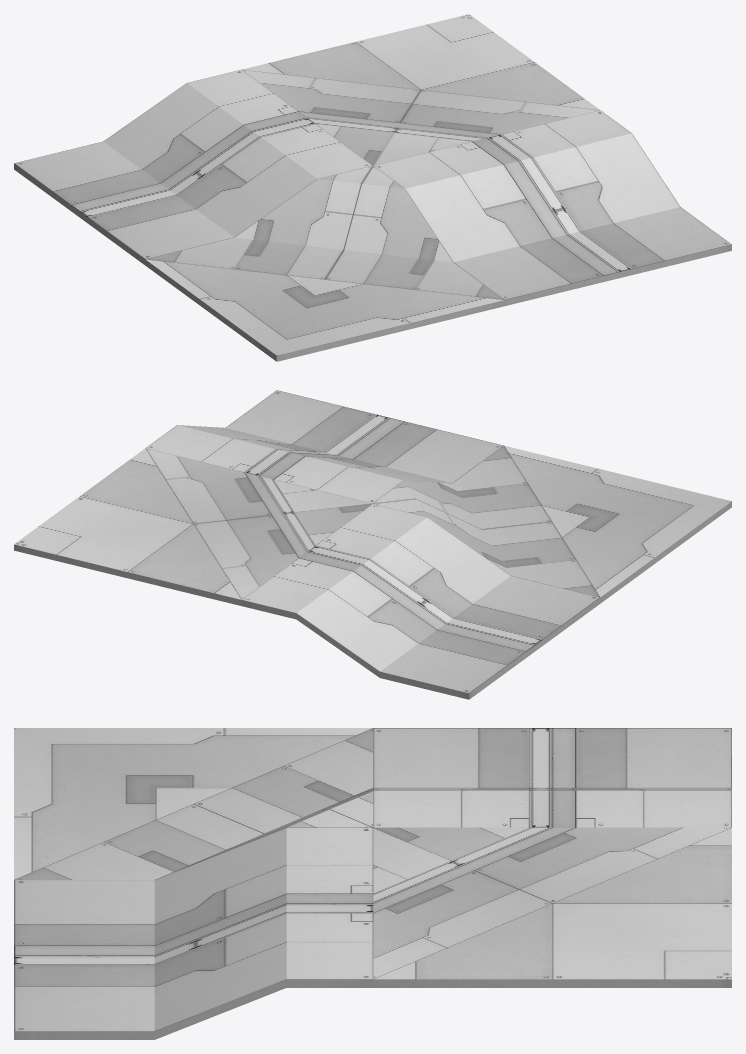
The model's file is Ext_Roof_Corner_01.FBX.
3 renders of one model, top to bottom at view 1: azimuth 30°, elevation 25°; view 2: azimuth 150°, elevation 25°; view 3: azimuth 270°, elevation 25°, orthographic. The views are drawn at different scales.
Parts seen in each view (by area): view 1: Ext_Roof_Corner_01; view 2: Ext_Roof_Corner_01; view 3: Ext_Roof_Corner_01.
Part boxes in pixels (x1,y1,x2,y2): Ext_Roof_Corner_01: [14, 14, 731, 361]; Ext_Roof_Corner_01: [14, 390, 731, 699]; Ext_Roof_Corner_01: [14, 728, 731, 1039].
Bounding box in the file's own units: 1121 × 104 × 1121.
